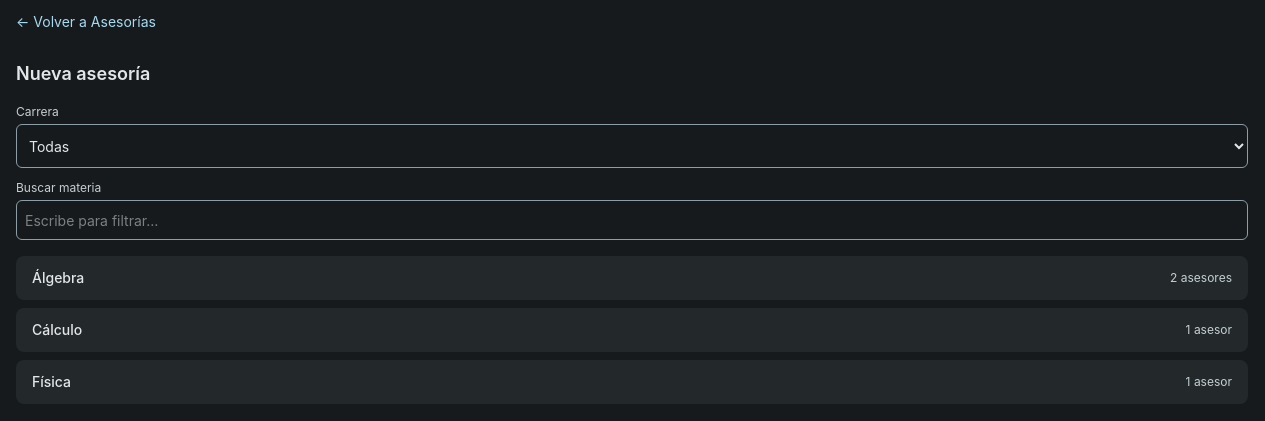
Scenario: OfertaAsesorias › filtra por búsqueda de nombre
Type "álge" into the field labelled "Buscar materia".
click(632, 220); type("álge")  # box 16,200 -> 1248,240
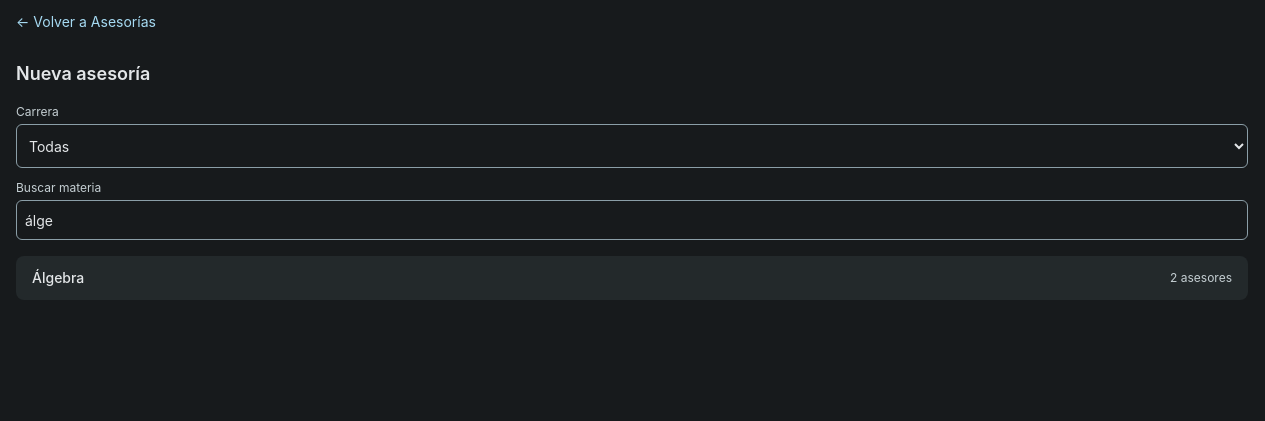
Check: the button "Álgebra 2 asesores" is shown, box 16,256 -> 1248,300
Check: the button "Cálculo" is gone
